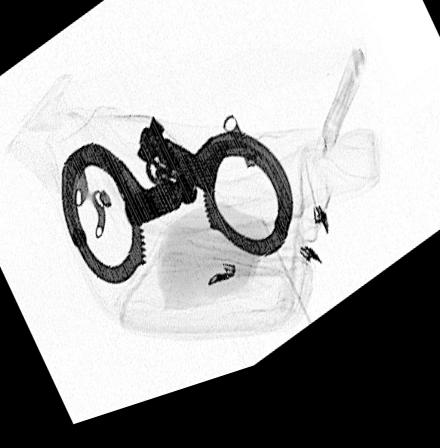HandCuffs: (55, 122, 296, 294)
